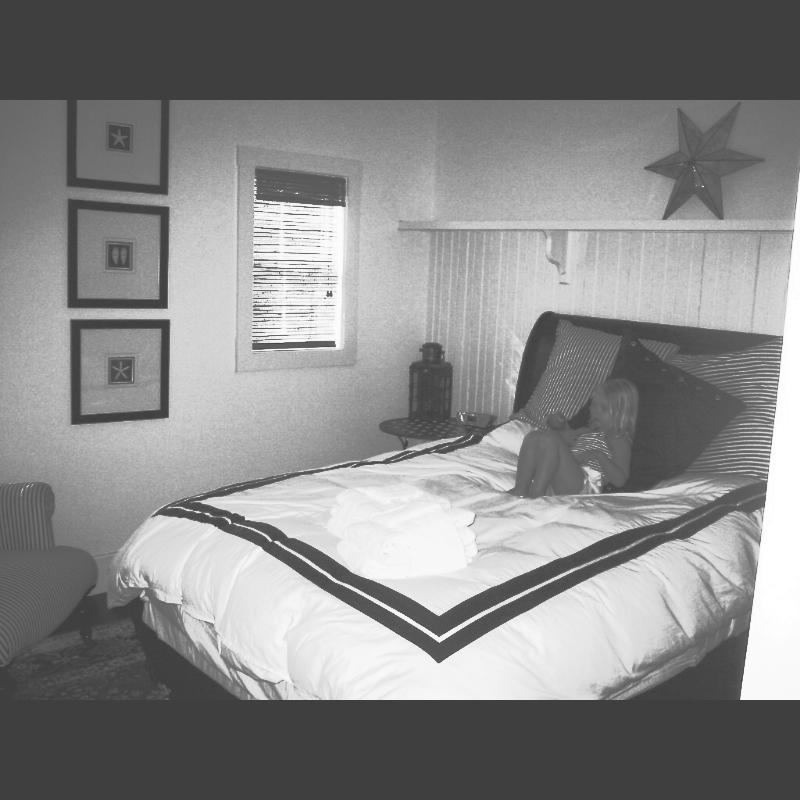pillow: (570, 332, 741, 490), (508, 313, 678, 433), (668, 340, 790, 478)
